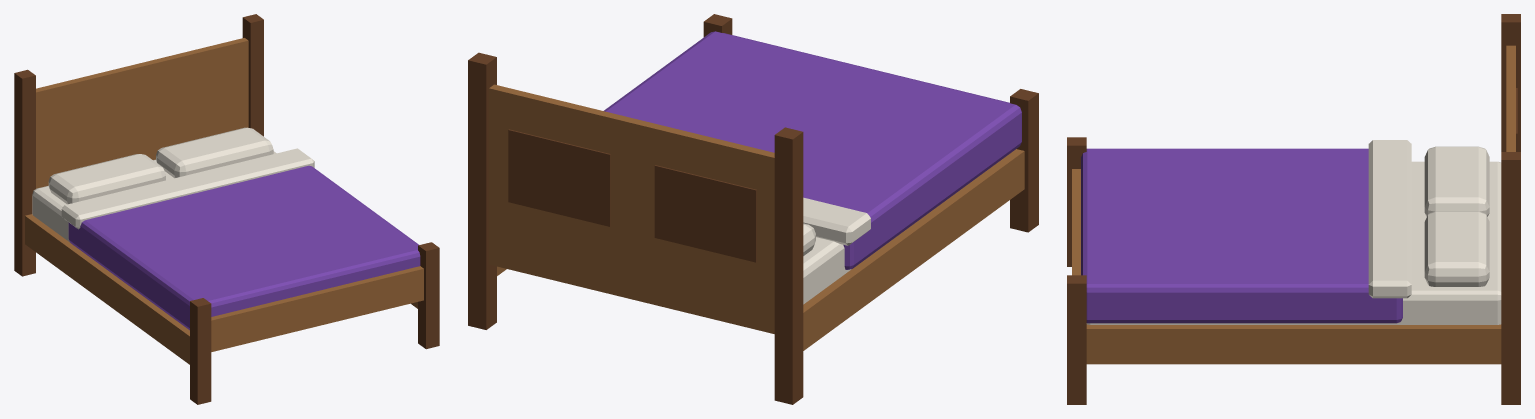
Rendered from double-bed.glb.
The picture shows the model from 3 angles, left to right: view 1: azimuth 30°, elevation 25°; view 2: azimuth 150°, elevation 25°; view 3: azimuth 270°, elevation 25°; orthographic projection. The views are drawn at different scales.
Parts seen in each view (by area): view 1: Double bed frame, Double bed blanket, Double bed posts, Double bed blanket fold, Double bed pillow A, Double bed pillow B, Double bed mattress; view 2: Double bed frame, Double bed blanket, Double bed posts, Double bed headboard, Double bed blanket fold, Double bed mattress; view 3: Double bed blanket, Double bed frame, Double bed posts, Double bed mattress, Double bed blanket fold, Double bed pillow B, Double bed pillow A.
Part boxes in pixels (x1,y1,x2,y2): Double bed frame: (25,38,423,364); Double bed blanket: (68,165,420,330); Double bed posts: (14,14,439,404); Double bed blanket fold: (61,148,314,229); Double bed pillow A: (48,154,165,204); Double bed pillow B: (156,127,273,178); Double bed mattress: (32,151,276,242); Double bed frame: (489,84,1024,350); Double bed blanket: (604,31,1021,269); Double bed posts: (468,14,1038,404); Double bed headboard: (508,129,756,262); Double bed blanket fold: (803,197,870,245); Double bed mattress: (803,237,851,304); Double bed blanket: (1081,148,1402,323); Double bed frame: (1072,45,1515,364); Double bed posts: (1067,14,1520,404); Double bed mattress: (1086,161,1501,324); Double bed blanket fold: (1368,140,1411,298); Double bed pillow B: (1424,211,1489,286); Double bed pillow A: (1424,146,1489,216).
Size of the model in its own units: 1.6 by 1.25 by 2.1.
